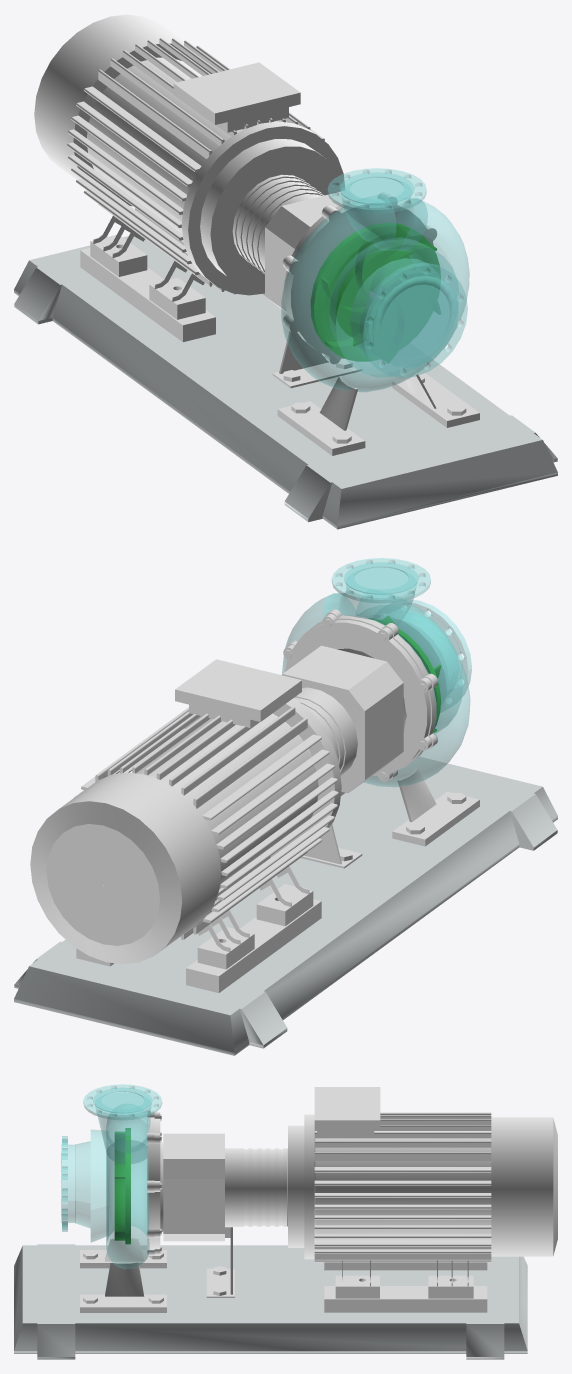
The model's file is 冷却泵.glb.
3 renders of one model, top to bottom at view 1: azimuth 30°, elevation 25°; view 2: azimuth 150°, elevation 25°; view 3: azimuth 270°, elevation 25°, orthographic. The views are drawn at different scales.
Parts seen in each view (by area): view 1: 主体, 基础, 透明外壳, 叶轮; view 2: 主体, 基础, 透明外壳, 叶轮; view 3: 主体, 基础, 透明外壳, 叶轮.
Boxes of the visible parts, <box> form: 主体: <box>34,14,479,455</box>; 基础: <box>14,236,557,529</box>; 透明外壳: <box>281,168,469,391</box>; 叶轮: <box>310,223,440,363</box>; 主体: <box>30,609,479,992</box>; 基础: <box>14,756,557,1055</box>; 透明外壳: <box>282,558,471,786</box>; 叶轮: <box>369,616,441,732</box>; 主体: <box>80,1087,557,1312</box>; 基础: <box>14,1244,527,1359</box>; 透明外壳: <box>61,1084,161,1268</box>; 叶轮: <box>114,1128,130,1244</box>.
Bounding box in the file's own units: 46.22 × 46.95 × 110.
